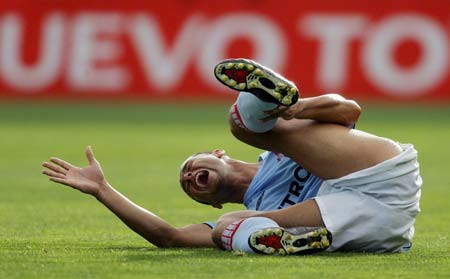fall: (17, 40, 442, 263)
